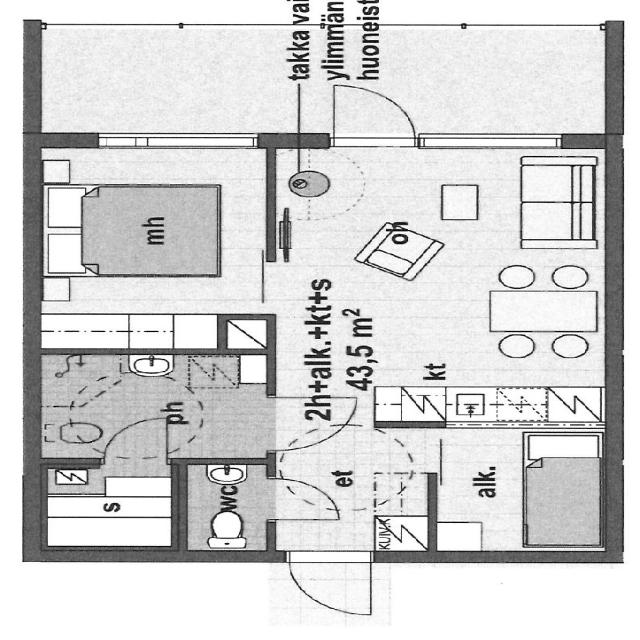door: (266, 142, 612, 424), (30, 144, 271, 354), (34, 351, 279, 463), (437, 420, 612, 554), (26, 461, 178, 556), (180, 458, 274, 554)
window: (75, 127, 268, 154), (407, 126, 578, 152)
zone: (319, 80, 431, 153), (279, 548, 387, 617), (260, 390, 360, 450), (88, 418, 190, 464), (269, 475, 340, 525)
